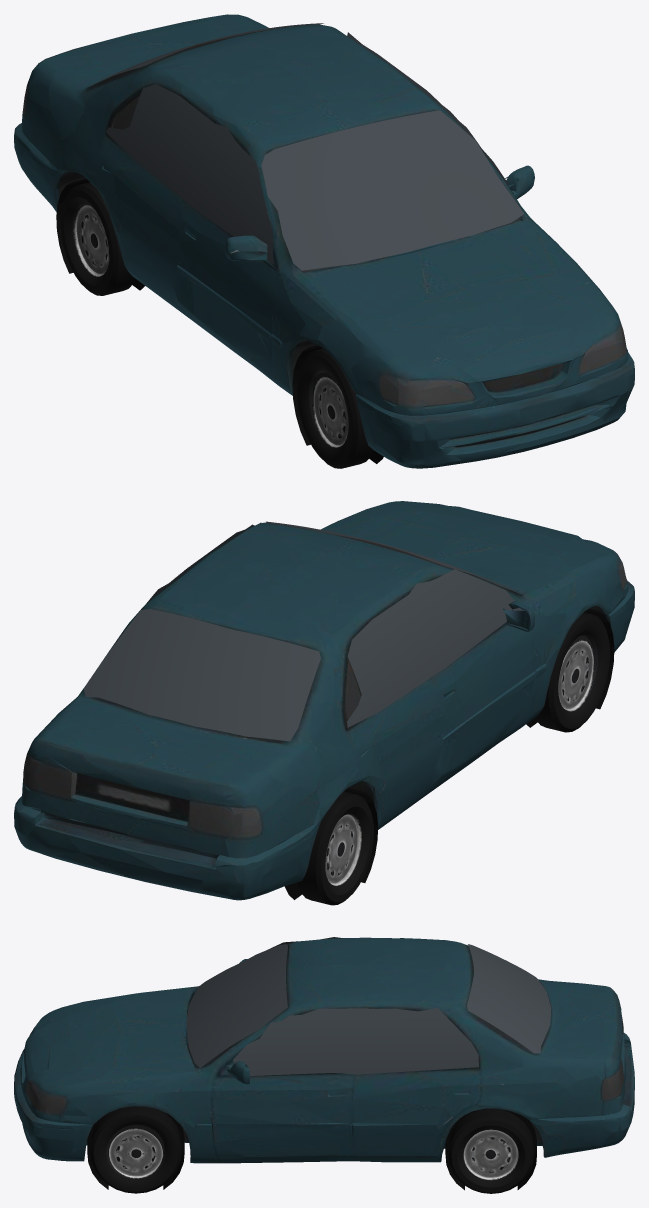
The model's file is sedan-clean.glb.
The picture shows the model from 3 angles, top to bottom: view 1: azimuth 30°, elevation 25°; view 2: azimuth 150°, elevation 25°; view 3: azimuth 270°, elevation 25°; orthographic projection. The views are drawn at different scales.
Visible parts, largest first — view 1: body, glass, wheel_fr, wheel_rr; view 2: body, glass, wheel_rr, wheel_fr; view 3: body, glass, wheel_fl, wheel_rl.
Part boxes in pixels (left/top/right/bottom): body: left=14, top=14, right=634, bottom=468; glass: left=93, top=23, right=524, bottom=270; wheel_fr: left=296, top=348, right=373, bottom=468; wheel_rr: left=60, top=182, right=135, bottom=295; body: left=14, top=501, right=634, bottom=900; glass: left=83, top=521, right=521, bottom=741; wheel_rr: left=296, top=791, right=373, bottom=905; wheel_fr: left=535, top=612, right=610, bottom=732; body: left=14, top=937, right=634, bottom=1190; glass: left=186, top=937, right=550, bottom=1075; wheel_fl: left=90, top=1106, right=181, bottom=1193; wheel_rl: left=448, top=1108, right=533, bottom=1193.
Bounding box in the file's own units: 2.04 × 1.54 × 4.75.
Materials: 3 (2 with a texture image).
